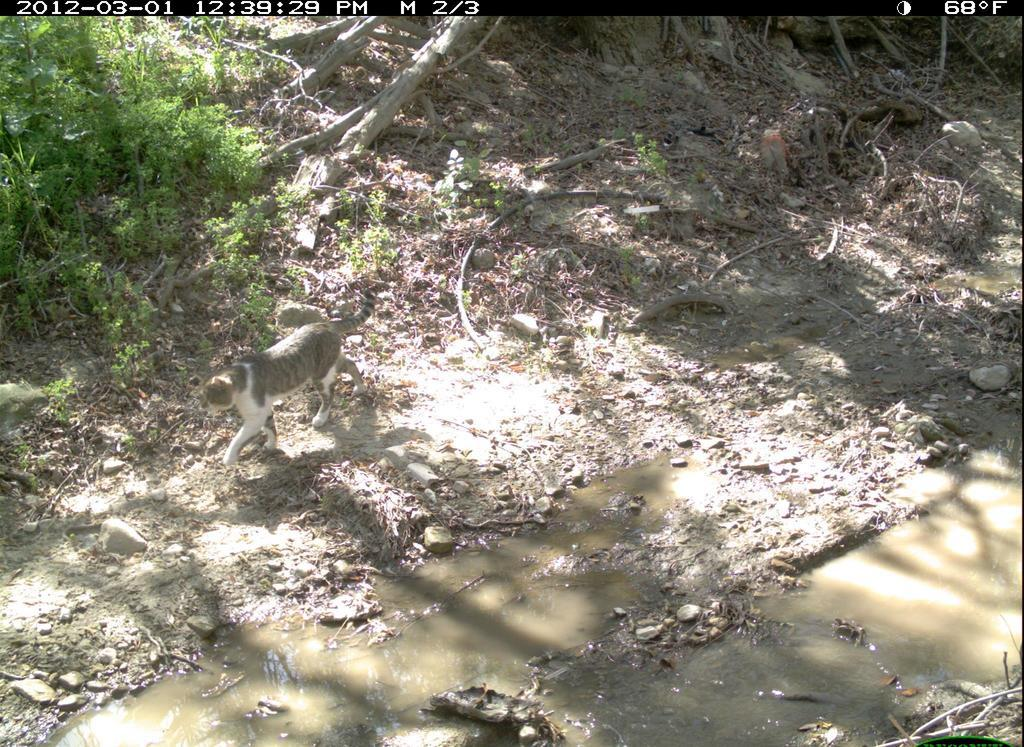cat: (200, 277, 392, 482)
